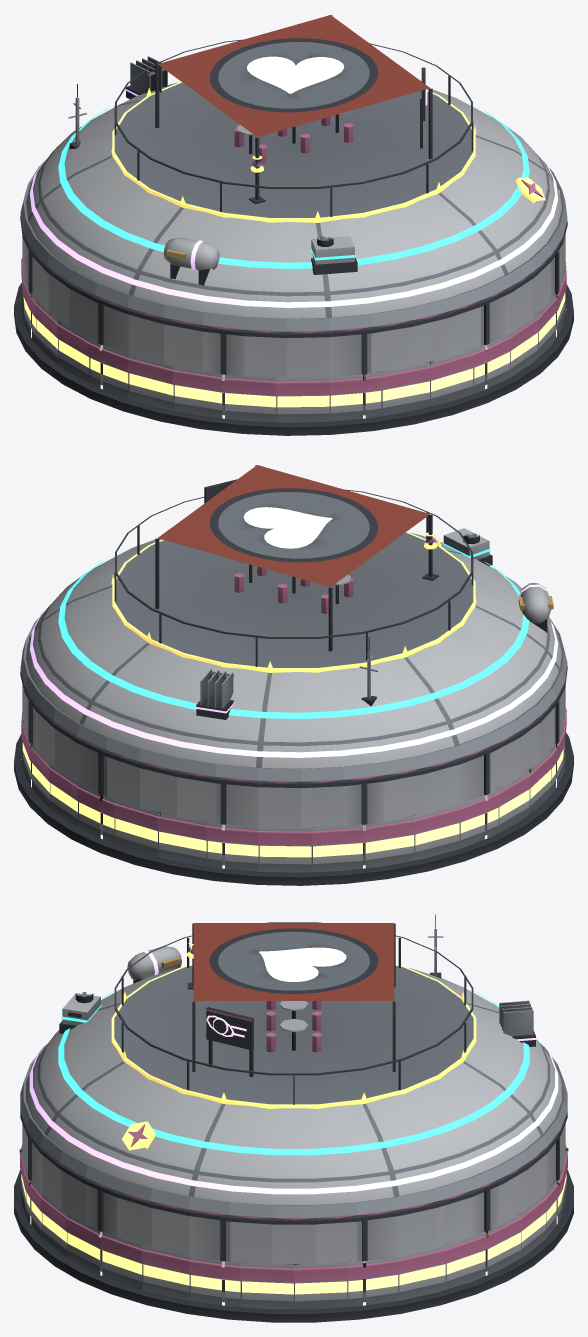
File: cantina_m_far.glb
3 views of the same model, one above another, from view 1: azimuth 30°, elevation 25°; view 2: azimuth 150°, elevation 25°; view 3: azimuth 270°, elevation 25° (orthographic).
Visible parts, largest first — view 1: Roof, Base, L2, L4, L3, L5; view 2: Roof, Base, L2, L4, L3, L5; view 3: Roof, Base, L2, L4, L3, L5.
Part boxes in pixels (x1,y1,x2,y2): Roof: (20, 15, 567, 378); Base: (14, 258, 573, 435); L2: (20, 84, 567, 331); L4: (29, 56, 558, 307); L3: (58, 99, 529, 274); L5: (111, 81, 545, 222); Roof: (20, 465, 567, 828); Base: (14, 708, 573, 885); L2: (20, 608, 567, 781); L4: (29, 583, 558, 757); L3: (58, 528, 529, 718); L5: (111, 531, 476, 672); Roof: (20, 922, 567, 1264); Base: (14, 1144, 573, 1322); L2: (20, 914, 567, 1217); L4: (29, 946, 558, 1194); L3: (58, 989, 529, 1155); L5: (111, 941, 476, 1150).
Bounding box in the file's own units: 14.75 × 7.15 × 14.75.
